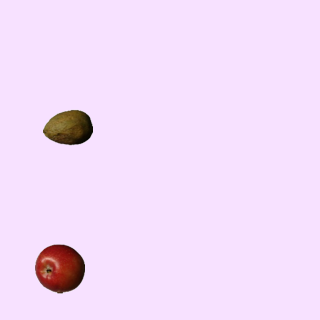Apple Braeburn: (34, 243, 84, 293)
Papaya: (42, 102, 92, 152)
